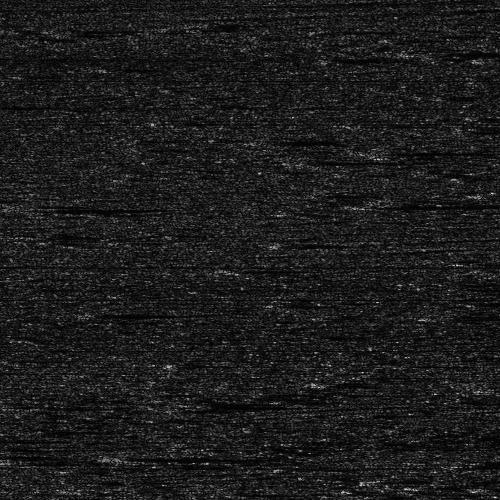object: (368, 135, 399, 168), (87, 452, 170, 459), (260, 238, 301, 249), (11, 205, 42, 210), (347, 202, 378, 207), (450, 54, 481, 57), (81, 312, 102, 315)
shadow: (384, 135, 500, 168), (129, 452, 282, 459), (281, 238, 367, 249), (363, 202, 496, 207), (26, 205, 141, 210), (275, 159, 404, 162), (92, 312, 209, 315), (465, 54, 500, 57)
